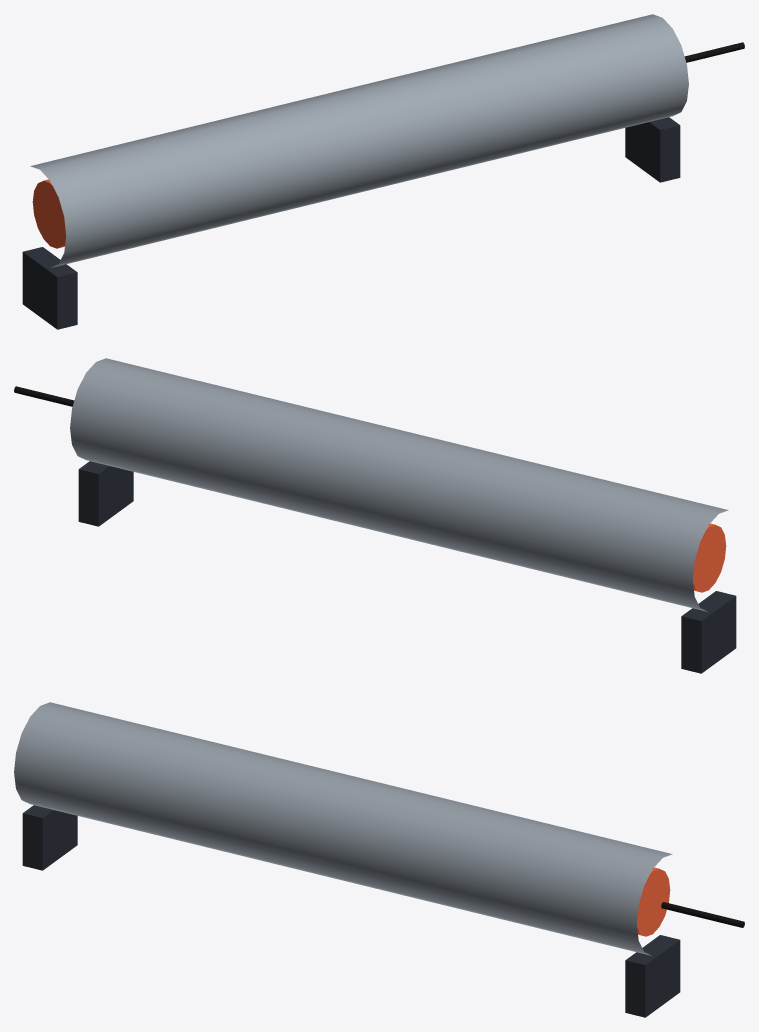
Rendered from heater-ceramic-tube-60cm.glb.
3 views of the same model, one above another, from view 1: azimuth 30°, elevation 25°; view 2: azimuth 150°, elevation 25°; view 3: azimuth 330°, elevation 25° (orthographic).
Parts seen in each view (by area): view 1: heater_guard, heater_bracket_1, heater_bracket_2, heat_element; view 2: heater_guard, heater_bracket_1, heater_bracket_2, heat_element; view 3: heater_guard, heater_bracket_2, heater_bracket_1, heat_element, heater_cord.
Part boxes in pixels (x1,y1,x2,y2): heater_guard: (30, 14, 688, 267); heater_bracket_1: (22, 247, 77, 329); heater_bracket_2: (625, 117, 680, 182); heat_element: (32, 179, 66, 248); heater_guard: (70, 358, 728, 611); heater_bracket_1: (681, 591, 736, 673); heater_bracket_2: (78, 461, 133, 526); heat_element: (692, 523, 726, 592); heater_guard: (14, 702, 672, 955); heater_bracket_2: (625, 935, 680, 1017); heater_bracket_1: (22, 805, 77, 870); heat_element: (636, 867, 670, 936); heater_cord: (661, 902, 744, 927).
Bounding box in the file's own units: 0.7 × 0.14 × 0.09.
